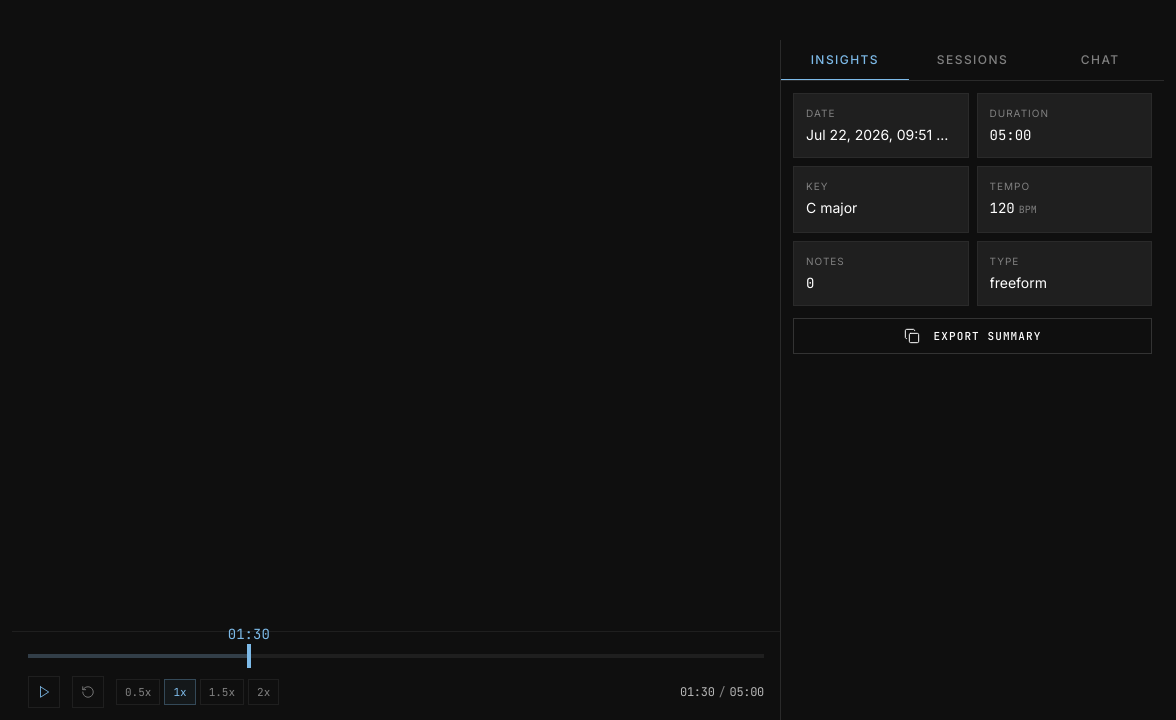
Test: ReplayStudio › chat tab › renders the replay chat region when Chat tab is active
The width and height of the screenshot is (1176, 720).
Step 1. Click the tab "Chat" → (1100, 60), box [1036,40,1164,80]
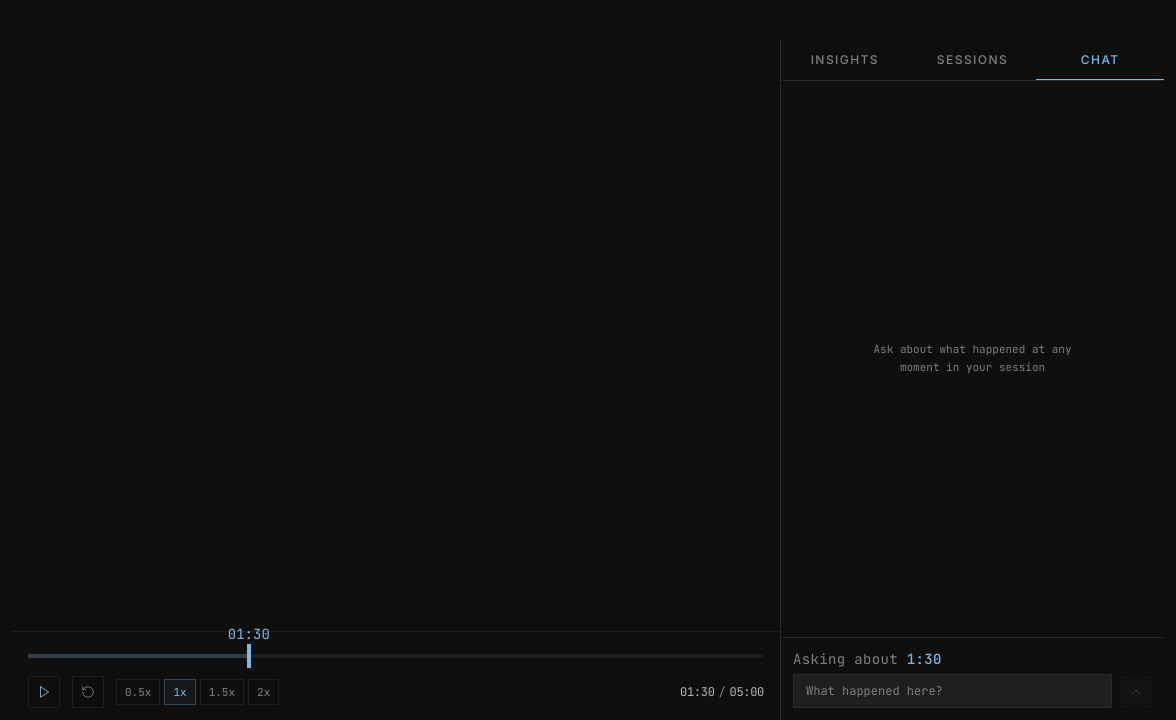
Result: the element named "Replay chat" is shown at [781,342,1164,719]
